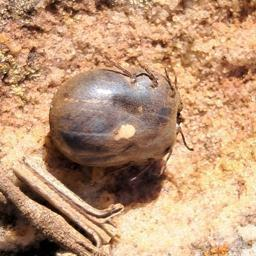Rhipicephalus sanguineus: (48, 67, 191, 185)
